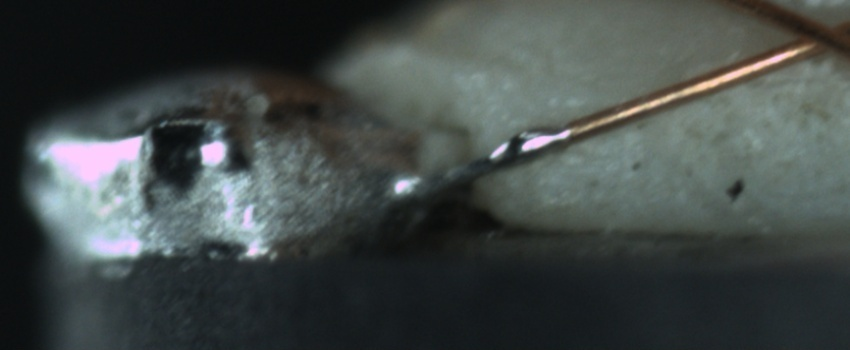CL: (768, 4, 850, 63)
TB: (493, 118, 569, 171)
TS: (397, 126, 569, 203)
TTCW: (400, 98, 619, 203)
